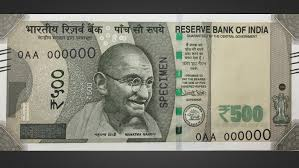fiveHundred: (14, 43, 278, 128)
